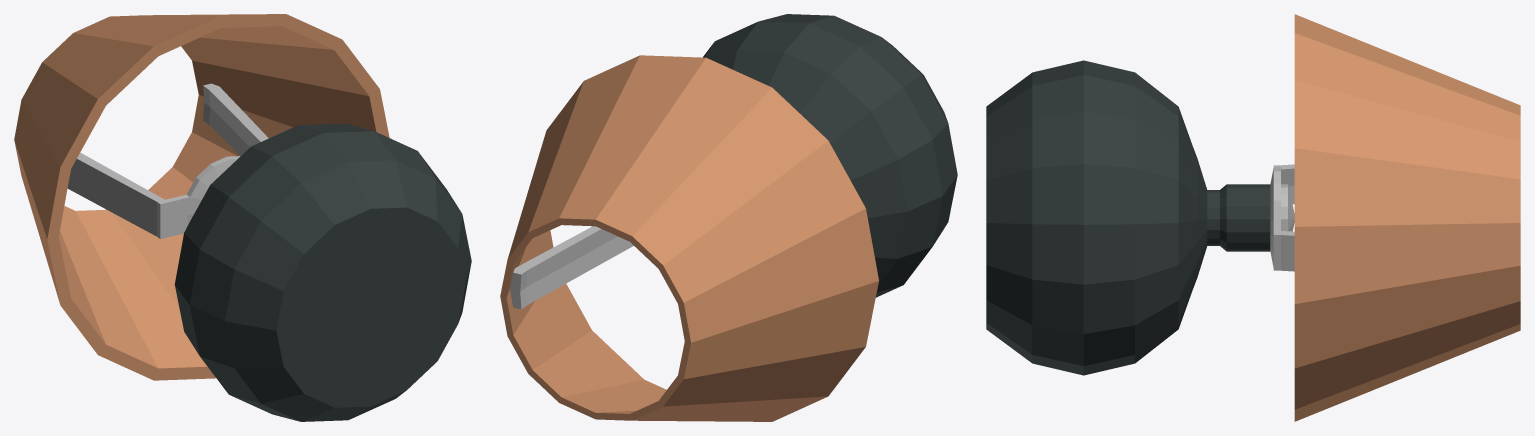
File: Lamp.fbx
3 views of the same model, side by side, from view 1: azimuth 30°, elevation 25°; view 2: azimuth 150°, elevation 25°; view 3: azimuth 270°, elevation 25° (orthographic). The views are drawn at different scales.
Parts seen in each view (by area): view 1: Lamp; view 2: Lamp; view 3: Lamp.
Part boxes in pixels (x1,y1,x2,y2): Lamp: (14,14,471,421); Lamp: (500,14,957,421); Lamp: (986,14,1520,421).
Size of the model in its own units: 26.77 by 26.77 by 35.03.
